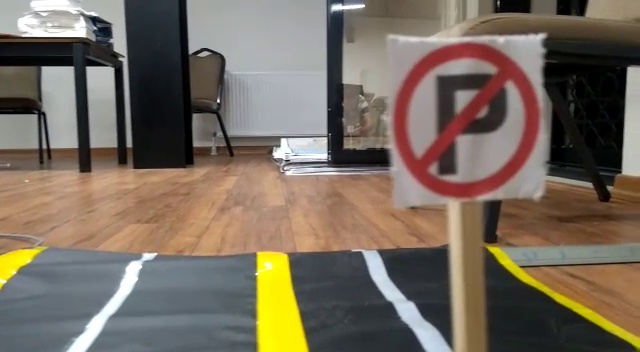park_yapilmaz: (387, 35, 544, 200)
